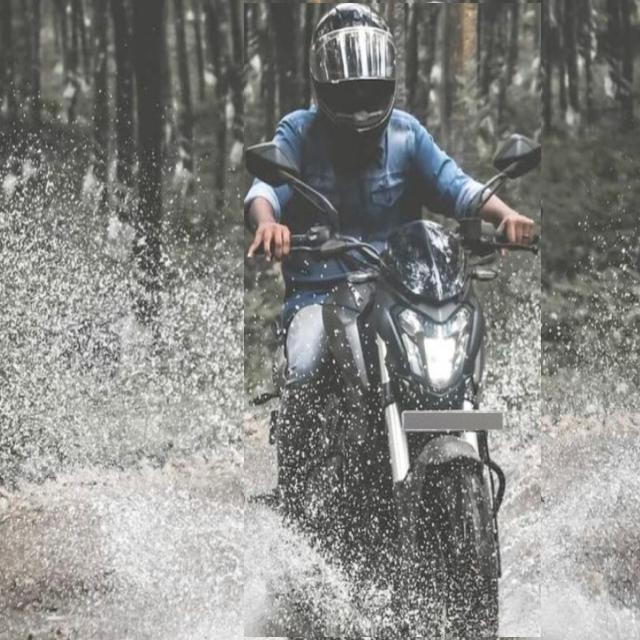motorcycle: (244, 4, 541, 637)
